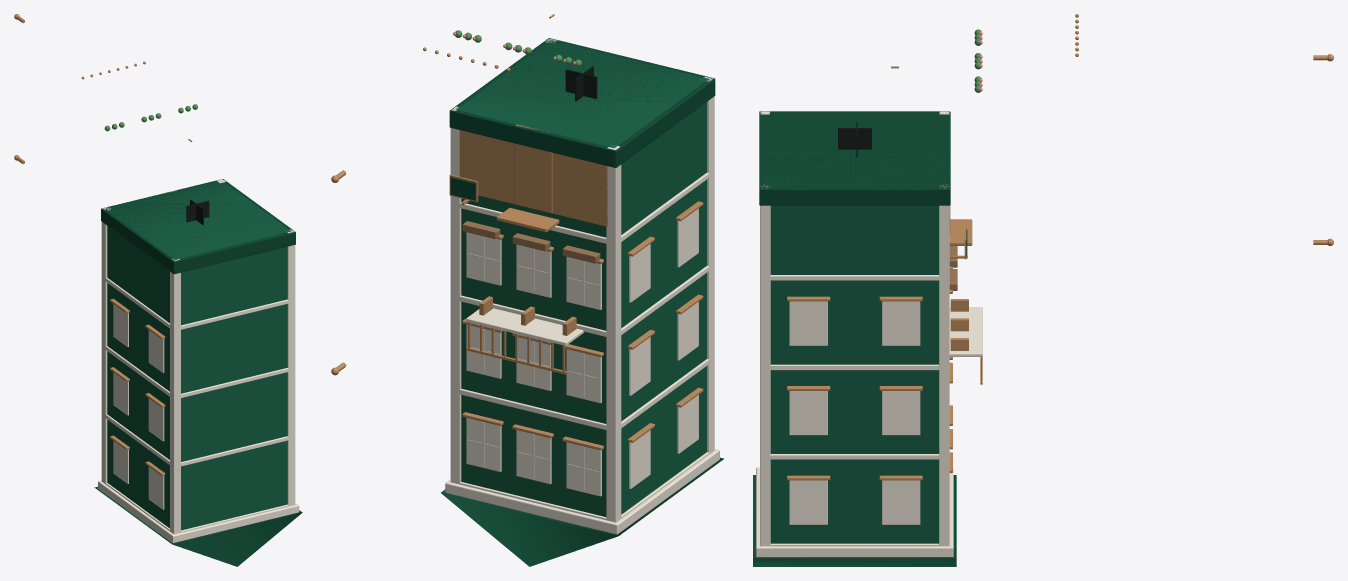
Rendered from gedung-g04-blender-v1.glb.
3 renders of one model, left to right at view 1: azimuth 30°, elevation 25°; view 2: azimuth 150°, elevation 25°; view 3: azimuth 270°, elevation 25°, orthographic. The views are drawn at different scales.
Parts seen in each view (by area): view 1: Badan, Balkon_Lantai, Atap, Balkon_Bola_0, Etalase_Kaca_-1.6; view 2: Badan, Balkon_Lantai, Atap, Balkon_Bola_0, Etalase_Isi_-1.6, Etalase_Kaca_-1.6; view 3: Badan, Balkon_Lantai, Atap, Balkon_Bola_0, Etalase_Kaca_-1.6.
Boxes of the visible parts, bbox=[...] form: Badan: bbox=[107, 181, 290, 530]; Balkon_Lantai: bbox=[98, 179, 299, 543]; Atap: bbox=[94, 179, 302, 566]; Balkon_Bola_0: bbox=[14, 14, 192, 475]; Etalase_Kaca_-1.6: bbox=[186, 199, 209, 225]; Badan: bbox=[456, 41, 708, 516]; Balkon_Lantai: bbox=[445, 39, 719, 534]; Atap: bbox=[441, 38, 723, 566]; Balkon_Bola_0: bbox=[331, 14, 703, 450]; Etalase_Isi_-1.6: bbox=[462, 221, 600, 263]; Etalase_Kaca_-1.6: bbox=[565, 66, 597, 101]; Badan: bbox=[763, 152, 945, 543]; Balkon_Lantai: bbox=[756, 111, 982, 557]; Atap: bbox=[753, 111, 967, 566]; Balkon_Bola_0: bbox=[787, 14, 1333, 480]; Etalase_Kaca_-1.6: bbox=[838, 122, 871, 157].
Bounding box in the file's own units: 6.4 × 19.06 × 18.82.
